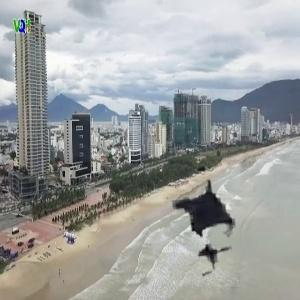drone: (124, 142, 262, 280)
